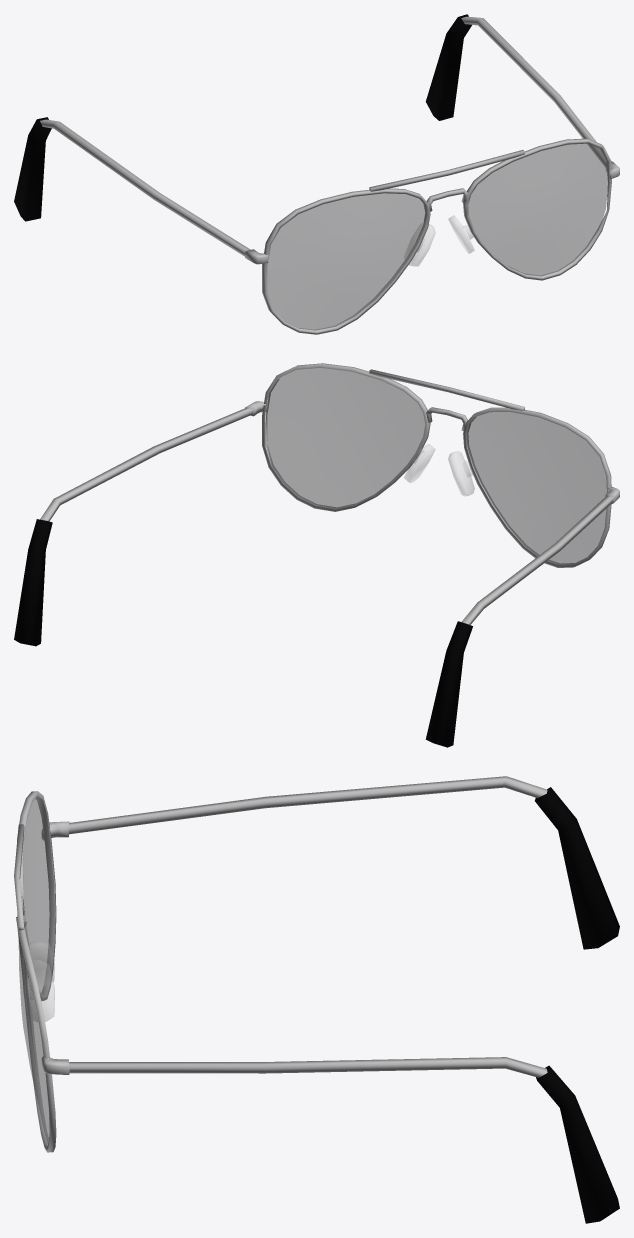
3 renders of one model, top to bottom at view 1: azimuth 30°, elevation 25°; view 2: azimuth 150°, elevation 25°; view 3: azimuth 270°, elevation 25°, orthographic. The views are drawn at different scales.
Visible parts, largest first — view 1: Wolf3D_Glasses; view 2: Wolf3D_Glasses; view 3: Wolf3D_Glasses.
Part boxes in pixels (left/top/right/bottom): Wolf3D_Glasses: left=14, top=14, right=619, bottom=334; Wolf3D_Glasses: left=14, top=363, right=619, bottom=747; Wolf3D_Glasses: left=14, top=776, right=619, bottom=1223.
Bounding box in the file's own units: 0.1617 × 0.0545 × 0.1447.
1 material, 1 textured.
